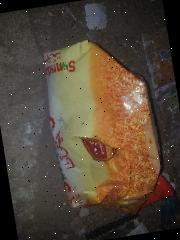general: (38, 31, 168, 220)
